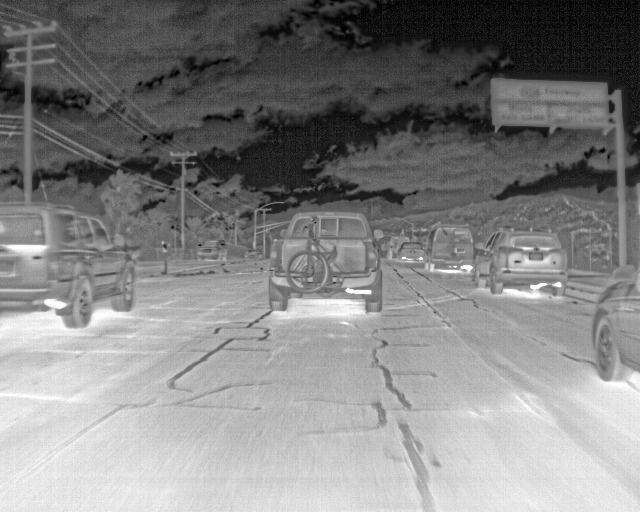bicycle: (287, 224, 331, 292)
car: (0, 203, 135, 330), (267, 209, 385, 315), (472, 226, 566, 299), (590, 272, 639, 386), (421, 221, 474, 271), (195, 237, 226, 260), (393, 241, 425, 263), (243, 248, 262, 263)
